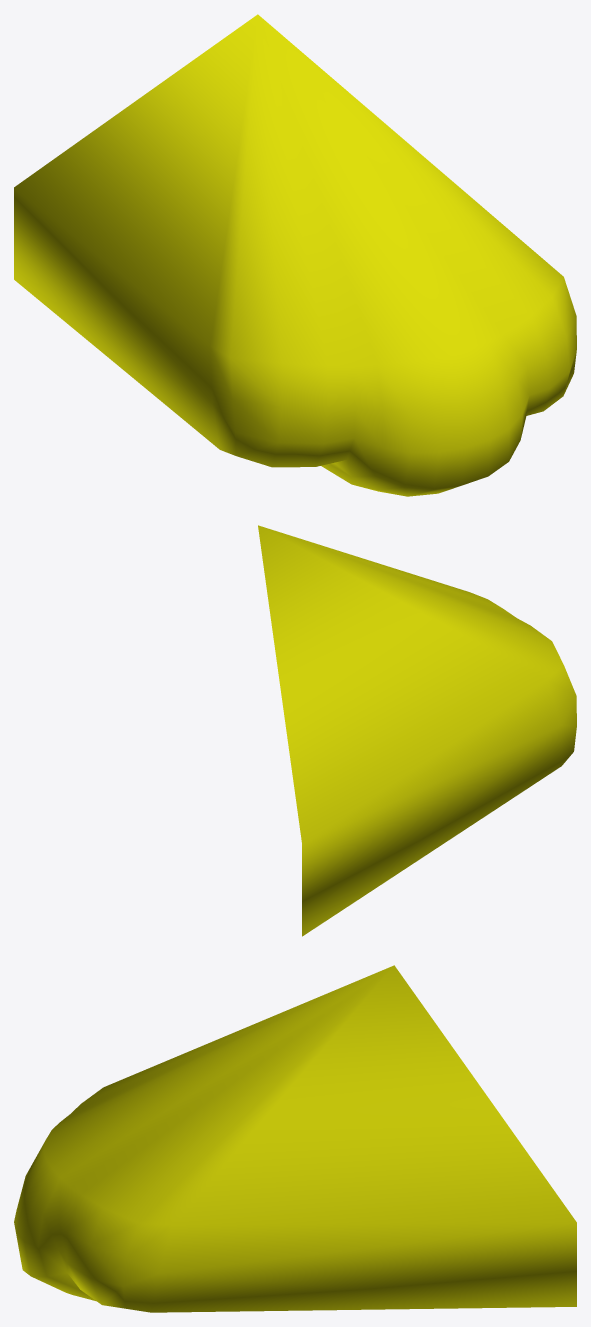
File: Nose_7.glb
The picture shows the model from 3 angles, top to bottom: view 1: azimuth 30°, elevation 25°; view 2: azimuth 150°, elevation 25°; view 3: azimuth 270°, elevation 25°; orthographic projection. The views are drawn at different scales.
Size of the model in its own units: 12.09 by 12.03 by 18.5.
